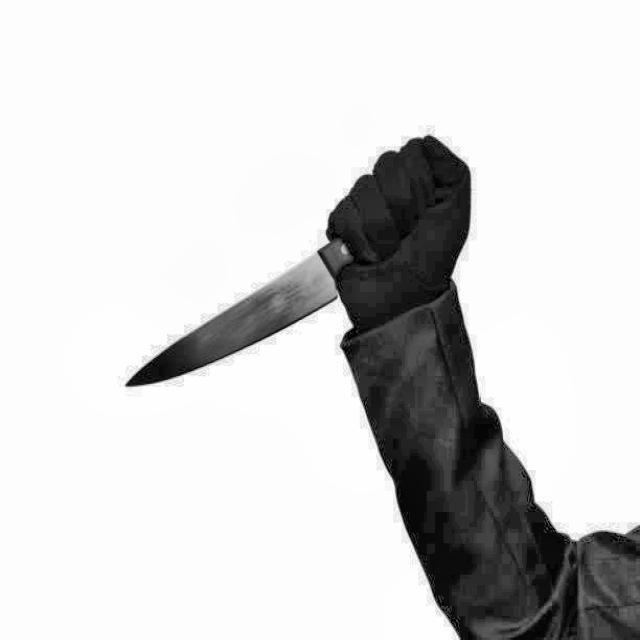pisau: (118, 210, 370, 393)
